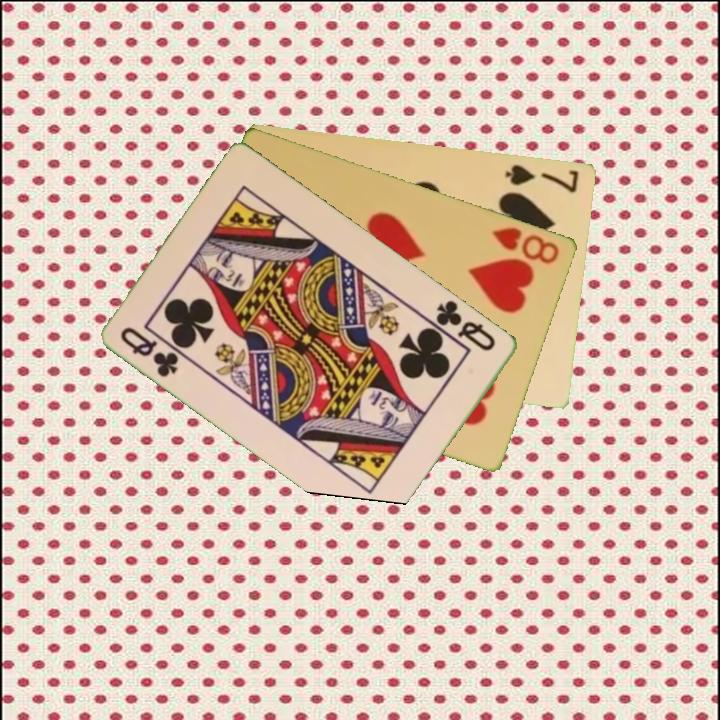7s: (502, 160, 582, 196)
8h: (489, 223, 563, 267)
Qc: (115, 323, 183, 380), (433, 296, 499, 354)
